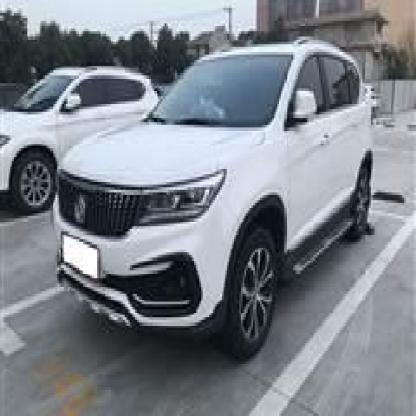Car: (49, 50, 372, 328), (0, 54, 154, 202)
